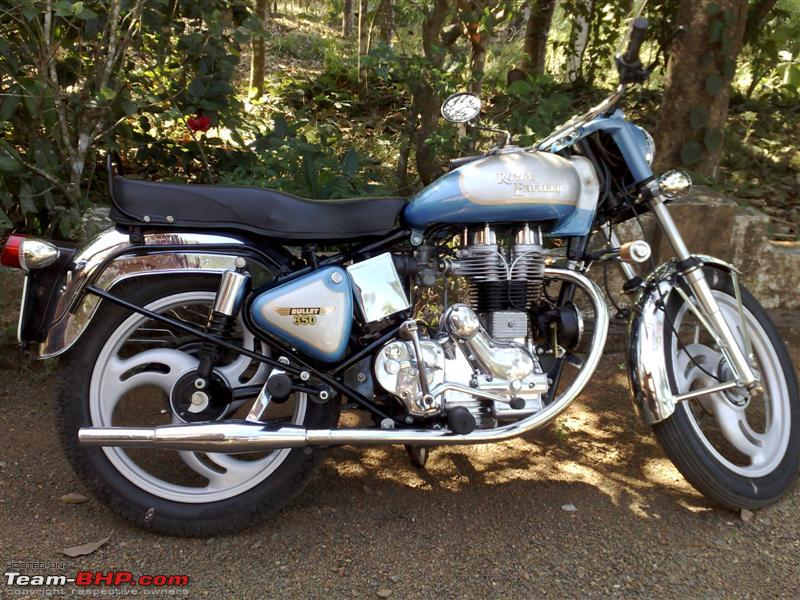bike: (10, 120, 800, 535)
